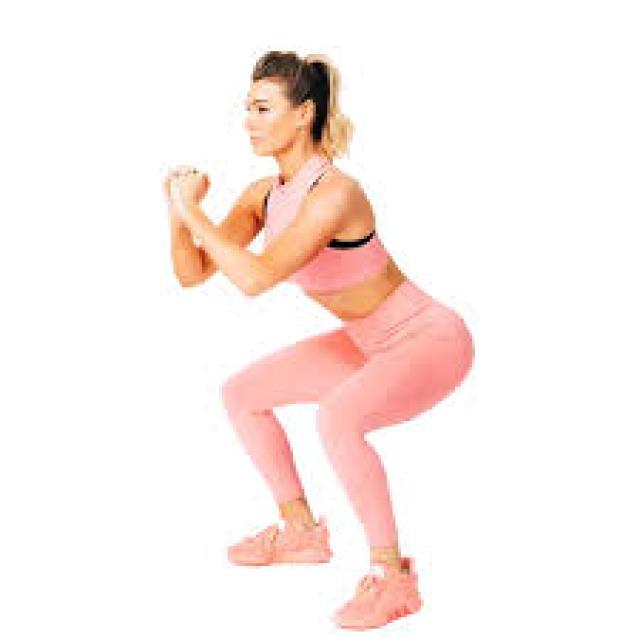squat: (156, 37, 476, 628)
